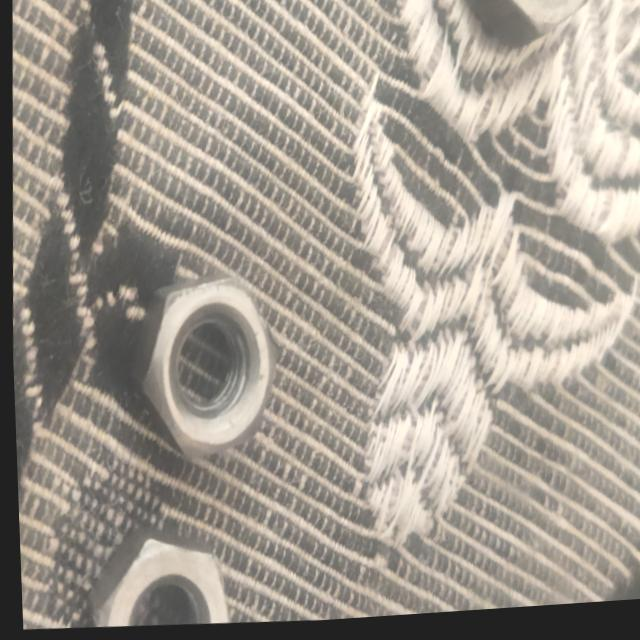disinfected nut: (129, 278, 269, 463), (85, 530, 222, 628), (466, 0, 586, 53)
